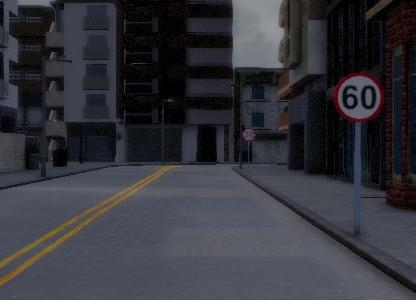Speed_60: (331, 69, 385, 124)
